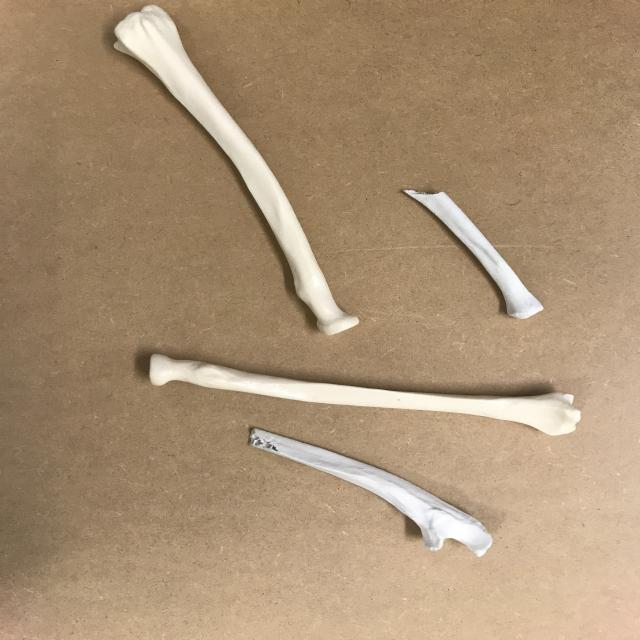bone: (104, 0, 366, 340), (139, 346, 586, 441), (239, 421, 504, 564), (402, 179, 550, 324)
